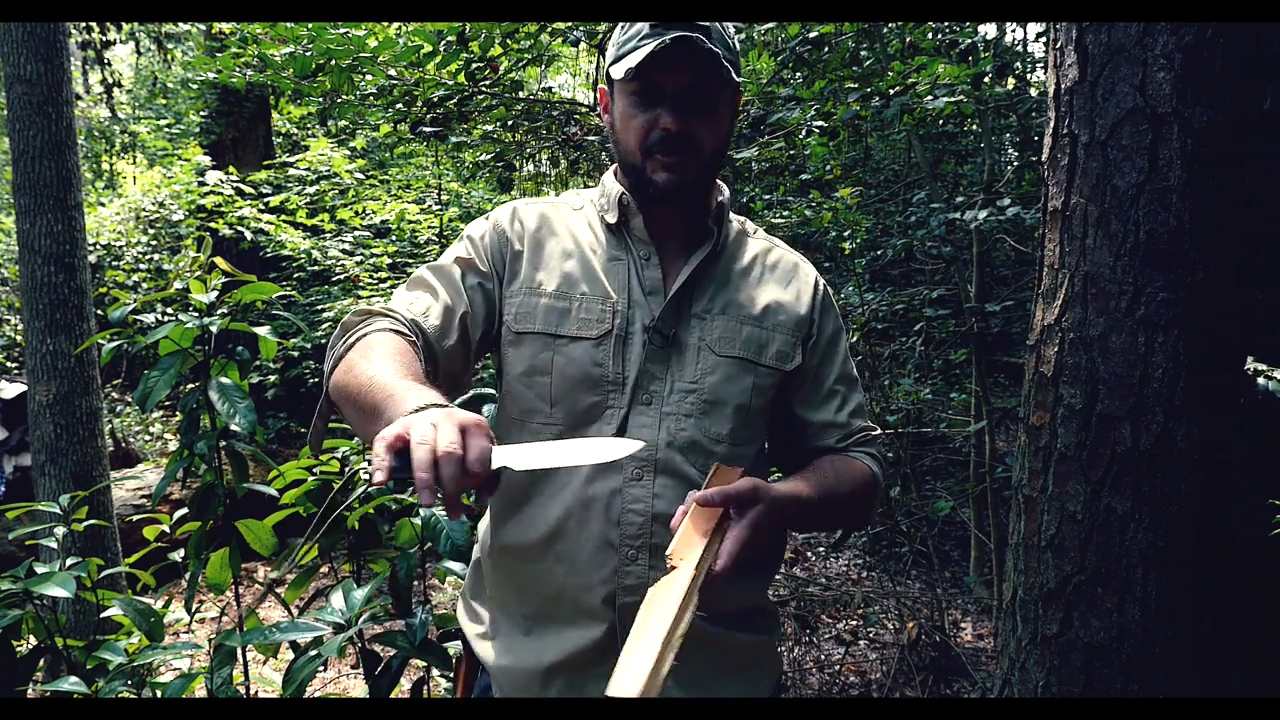knife: (418, 410, 663, 493)
